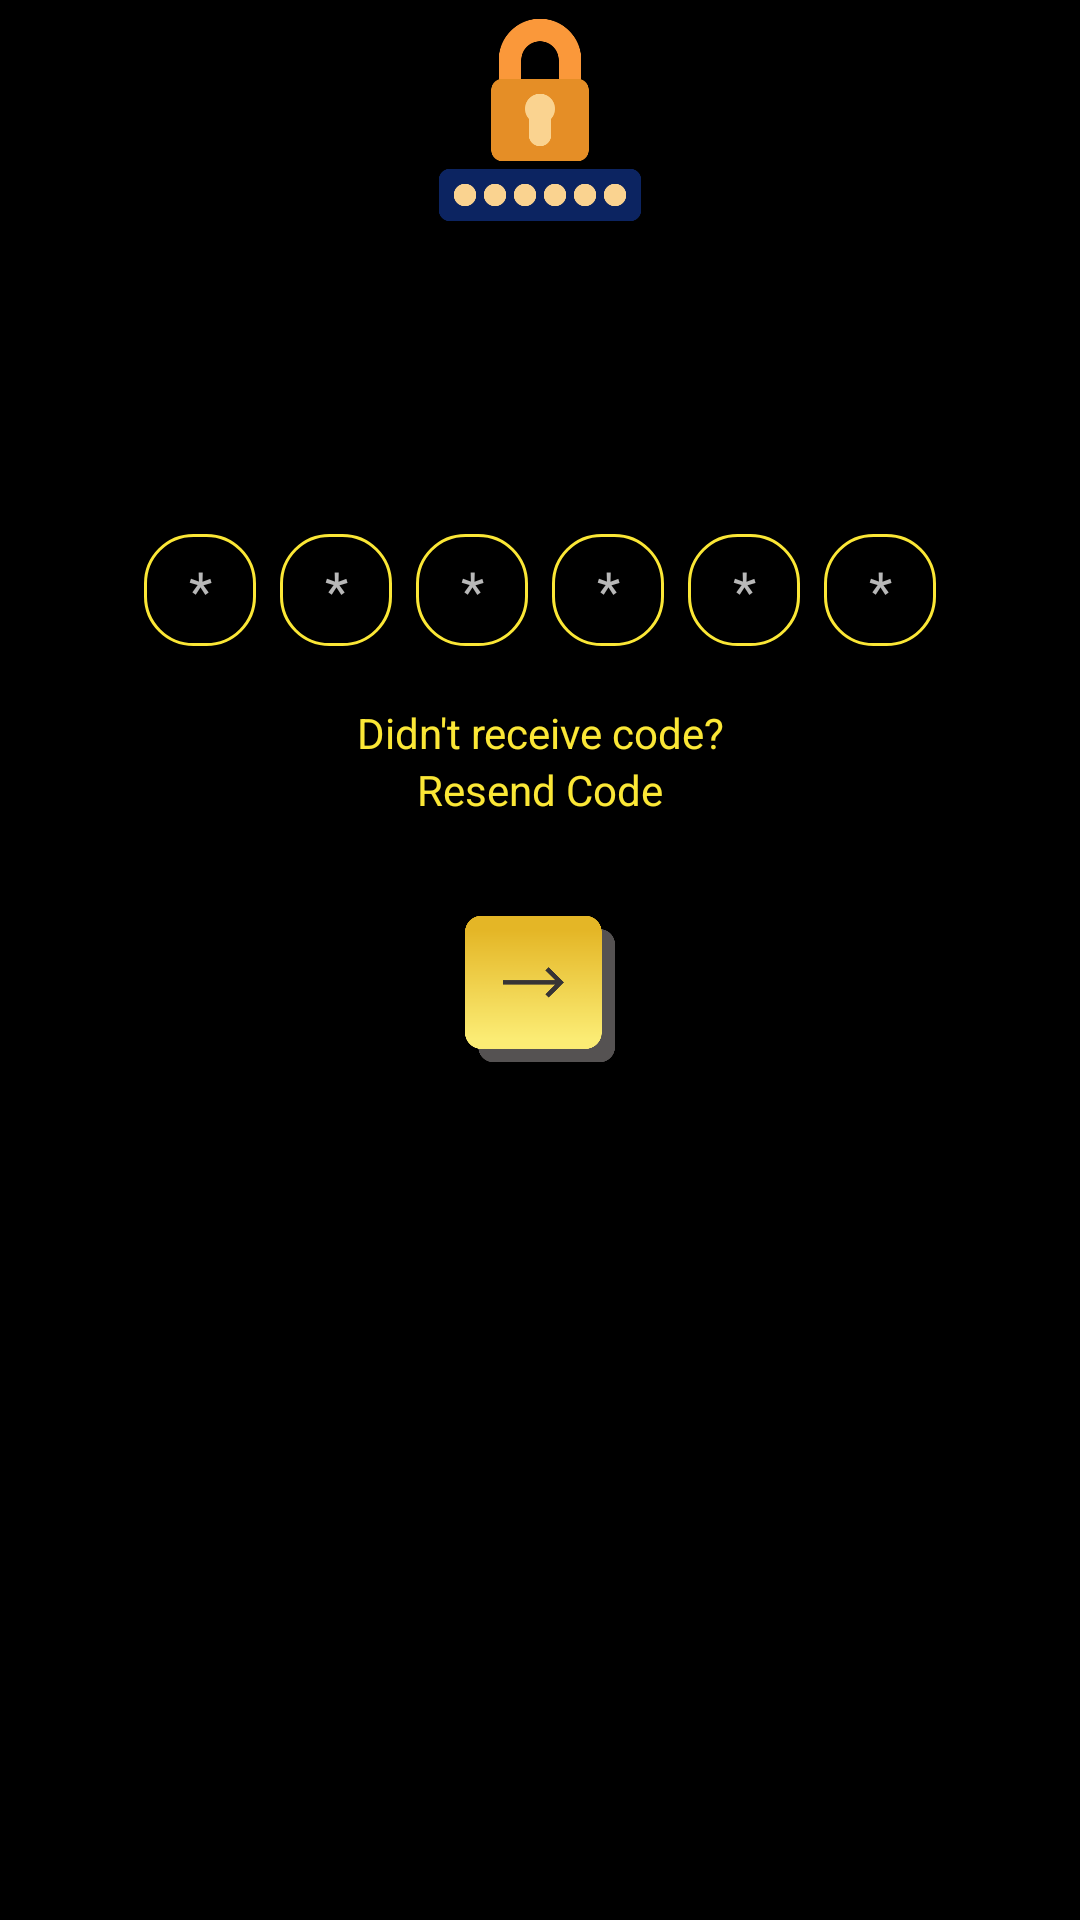

Named icons in this screenshot (1080x1920) and their centers, (x,y):
password: (540,120)
